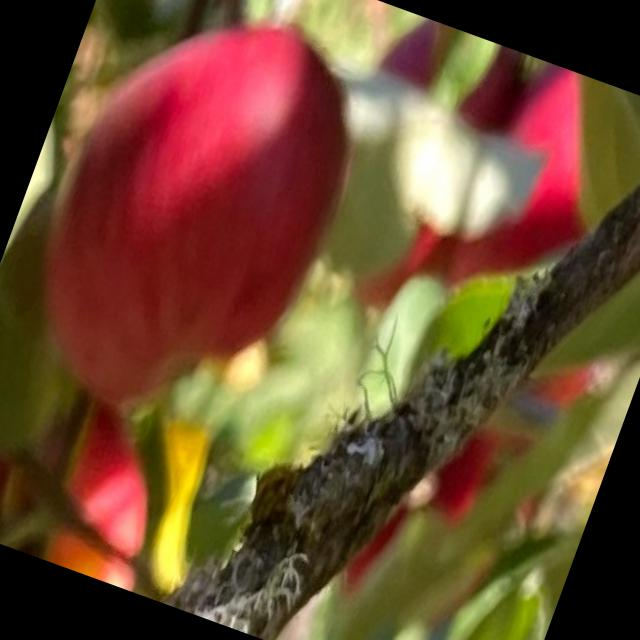Apples: (0, 0, 388, 446), (299, 8, 525, 330), (442, 54, 634, 323), (0, 350, 191, 591)
